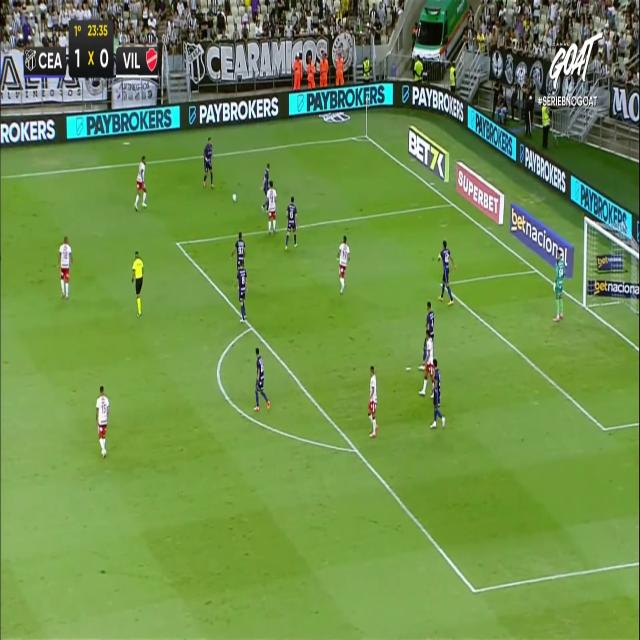ball: (232, 193, 237, 203)
goalkeeper: (553, 249, 565, 320)
player: (433, 239, 456, 304), (419, 330, 435, 399), (253, 347, 270, 411), (429, 362, 445, 429), (57, 235, 72, 298), (95, 384, 108, 456), (234, 262, 248, 322), (284, 196, 298, 250), (263, 181, 277, 234), (337, 234, 349, 293), (234, 232, 246, 291), (134, 155, 146, 210), (368, 365, 377, 438), (202, 136, 214, 188), (424, 299, 434, 358), (264, 162, 271, 214)
referee: (131, 249, 143, 316)
